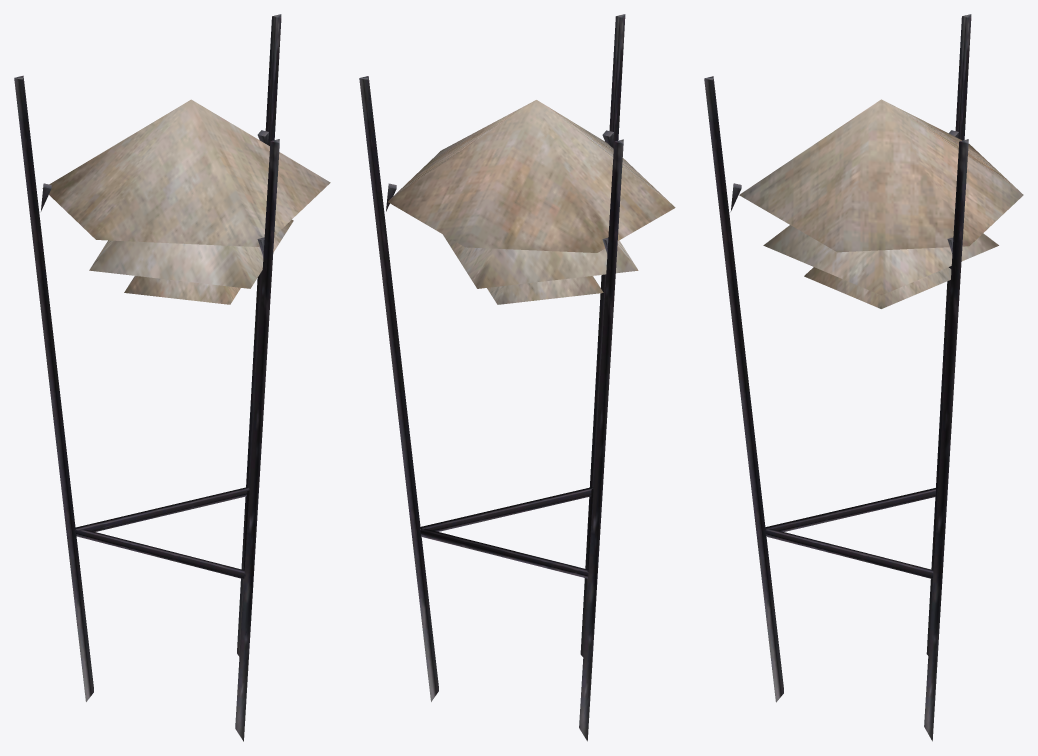
The model's file is frn_all_lamp_free_s2_l1.fbx.
3 views of the same model, side by side, from view 1: azimuth 30°, elevation 25°; view 2: azimuth 150°, elevation 25°; view 3: azimuth 270°, elevation 25° (orthographic).
Parts seen in each view (by area): view 1: mesh_node; view 2: mesh_node; view 3: mesh_node.
Part boxes in pixels (x1,y1,x2,y2): mesh_node: [14, 14, 330, 741]; mesh_node: [359, 14, 675, 741]; mesh_node: [704, 14, 1023, 741].
Size of the model in its own units: 0.7964 by 1.79 by 0.8295.
